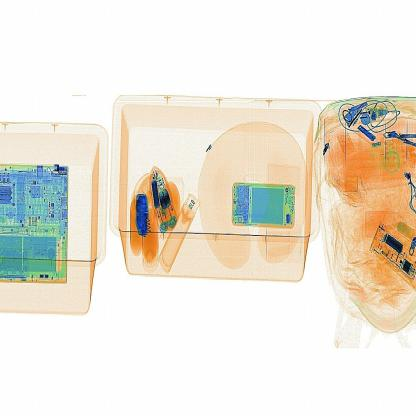scissors: (134, 192, 155, 242)
